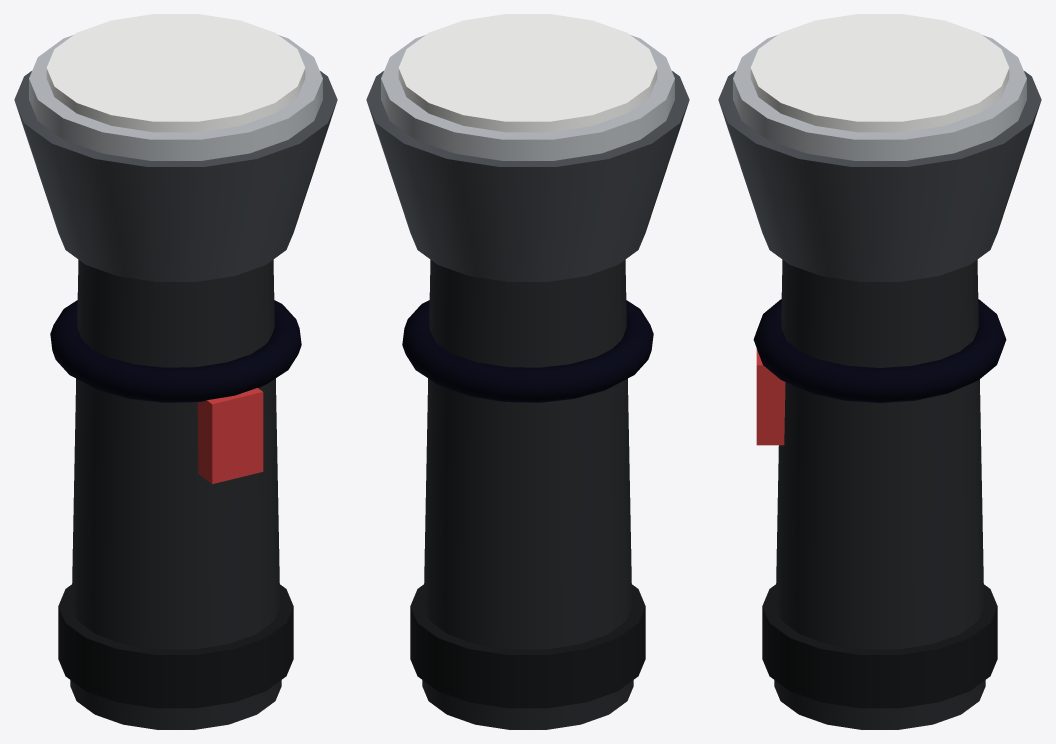
The model's file is item_flashlight.fbx.
The picture shows the model from 3 angles, left to right: view 1: azimuth 30°, elevation 25°; view 2: azimuth 150°, elevation 25°; view 3: azimuth 270°, elevation 25°; orthographic projection.
Parts seen in each view (by area): view 1: M__item_flashlight; view 2: M__item_flashlight; view 3: M__item_flashlight.
Part boxes in pixels (x1,y1,x2,y2): M__item_flashlight: (14, 14, 337, 729); M__item_flashlight: (366, 14, 689, 729); M__item_flashlight: (718, 14, 1041, 729).
Bounding box in the file's own units: 0.1083 × 0.232 × 0.11.
